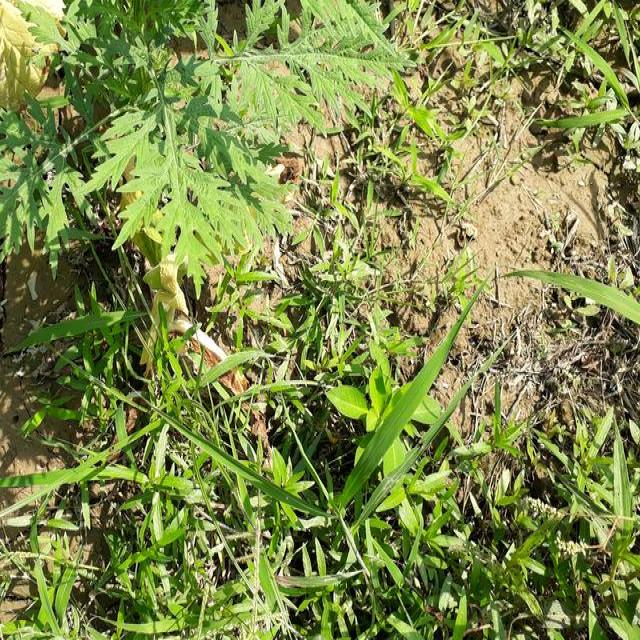weed: (56, 371, 640, 640)
